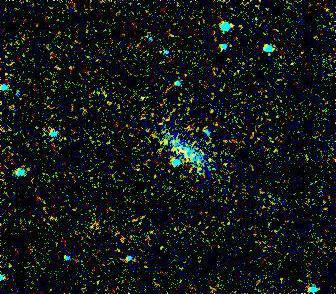star: (148, 125, 178, 155)
